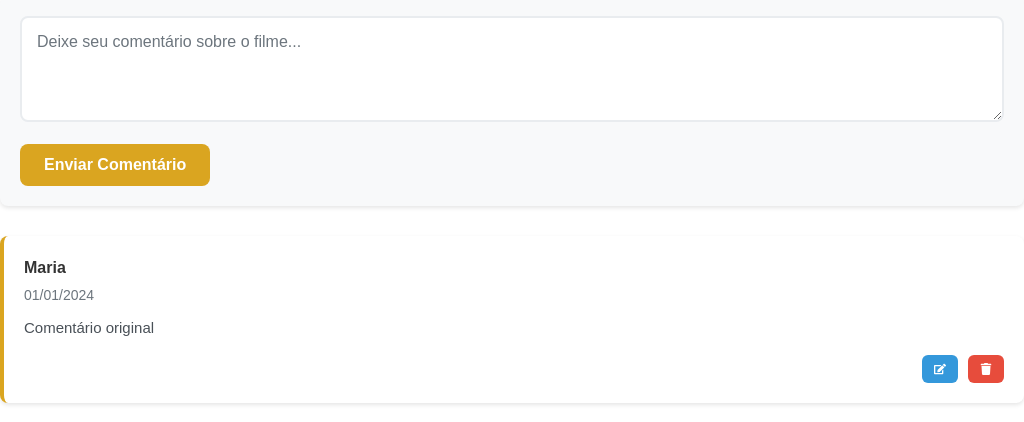
<CommentForm /> › permite excluir comentário com confirmação
Check: the text "Comentário original" is shown, box top-left (24, 319), bottom-right (154, 336)
What coordinates should you click on to do the following:
click the button titled "Excluir"
I would click on:
 (986, 369)
Its box is top-left (968, 355), bottom-right (1004, 383).
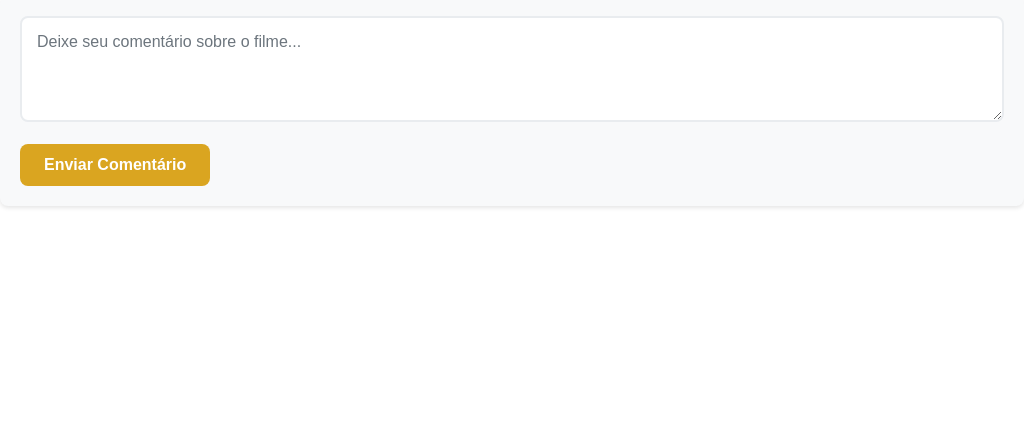
Check: the text "Comentário original" is gone
